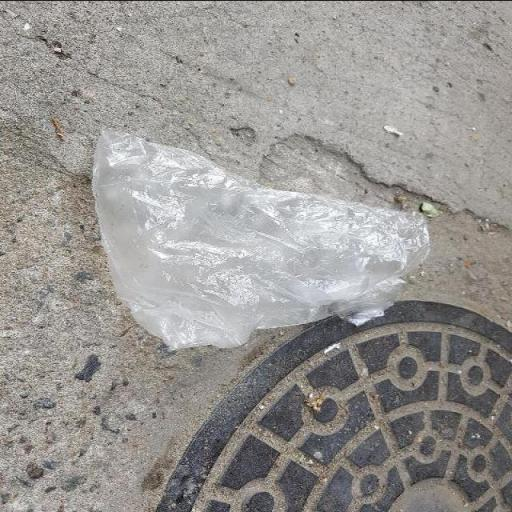plastic-bag: (89, 126, 436, 352)
